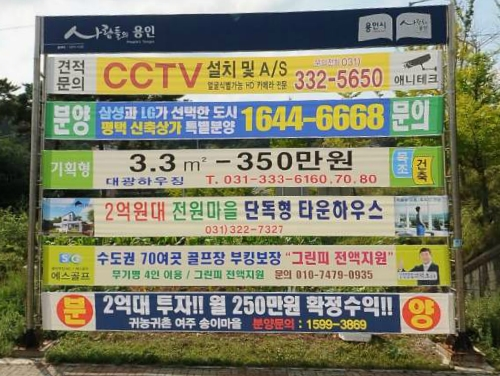banner: (23, 230, 476, 294), (5, 281, 480, 339), (15, 191, 467, 244), (32, 46, 459, 100), (21, 92, 465, 141), (23, 144, 469, 191)
